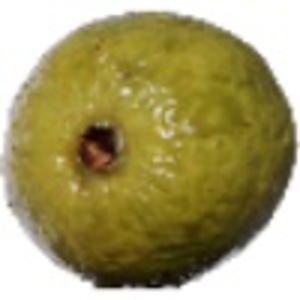goiaba: (4, 4, 299, 289)
